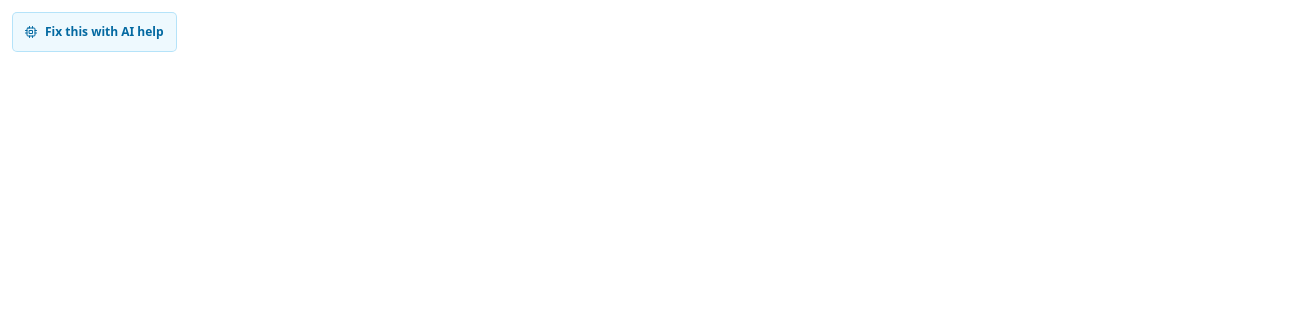
applying a remediation › asks for a value it will not invent, and blocks the write until it has one
Click the button "Fix this with AI help" at (94, 32), box [12,12,177,52]
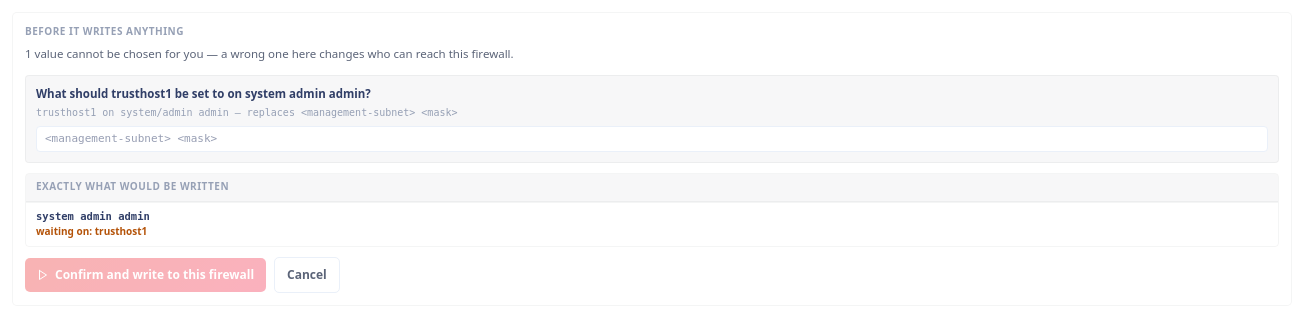
Now the text "cannot be chosen for you" is shown, box [63,46,514,63]
Now the text "trusthost1" is shown, box [36,86,371,103]
Now the button "Confirm and write to this firewall" is disabled, box [25,258,266,292]
